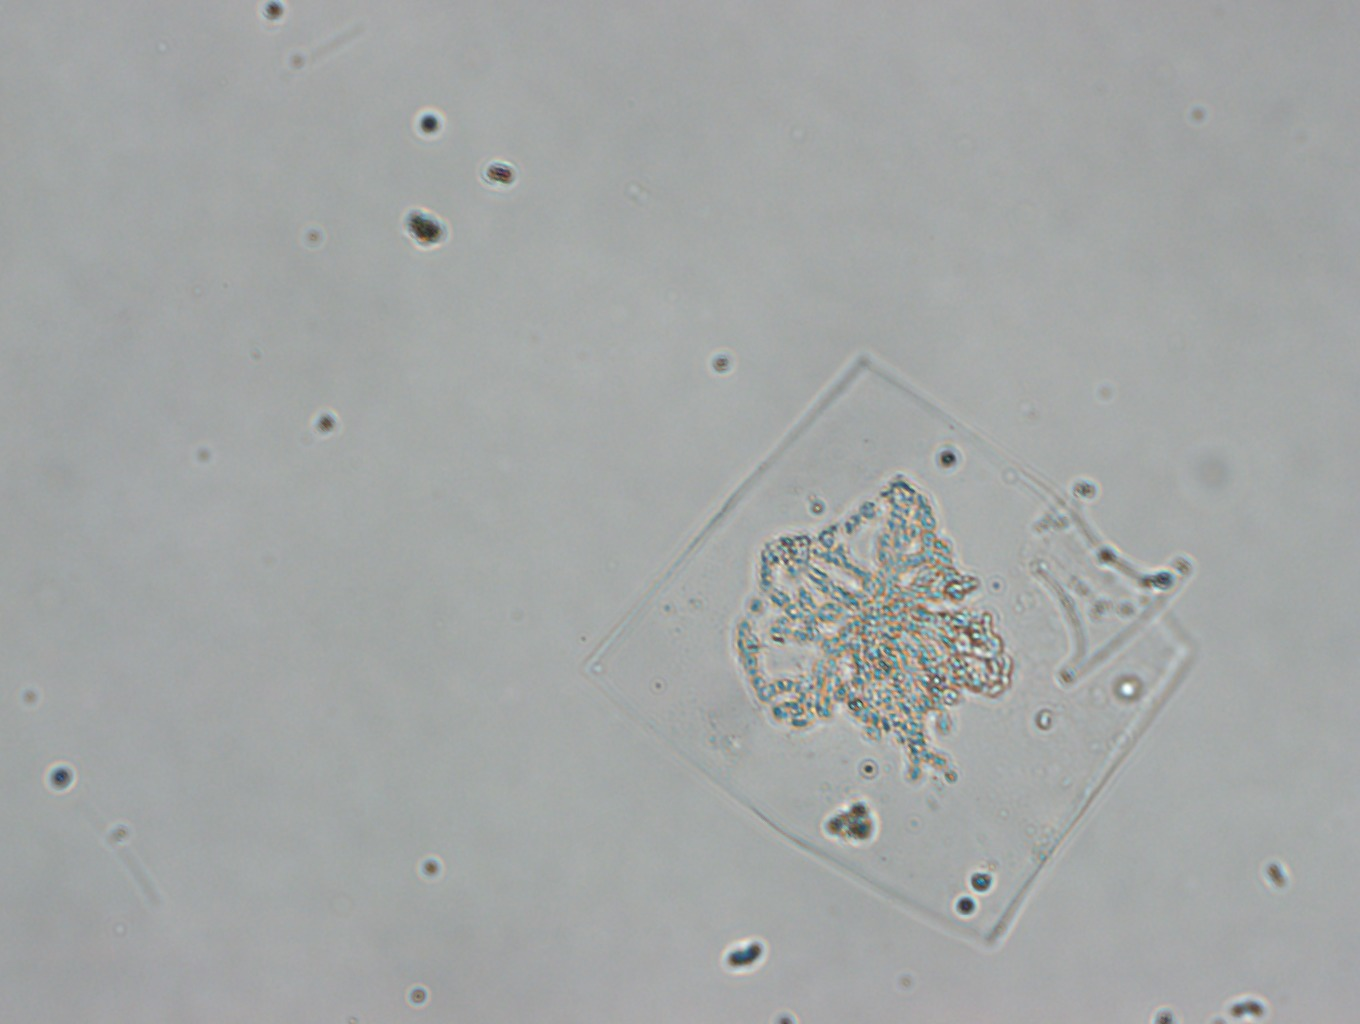helicotheca: (593, 354, 1196, 953)
